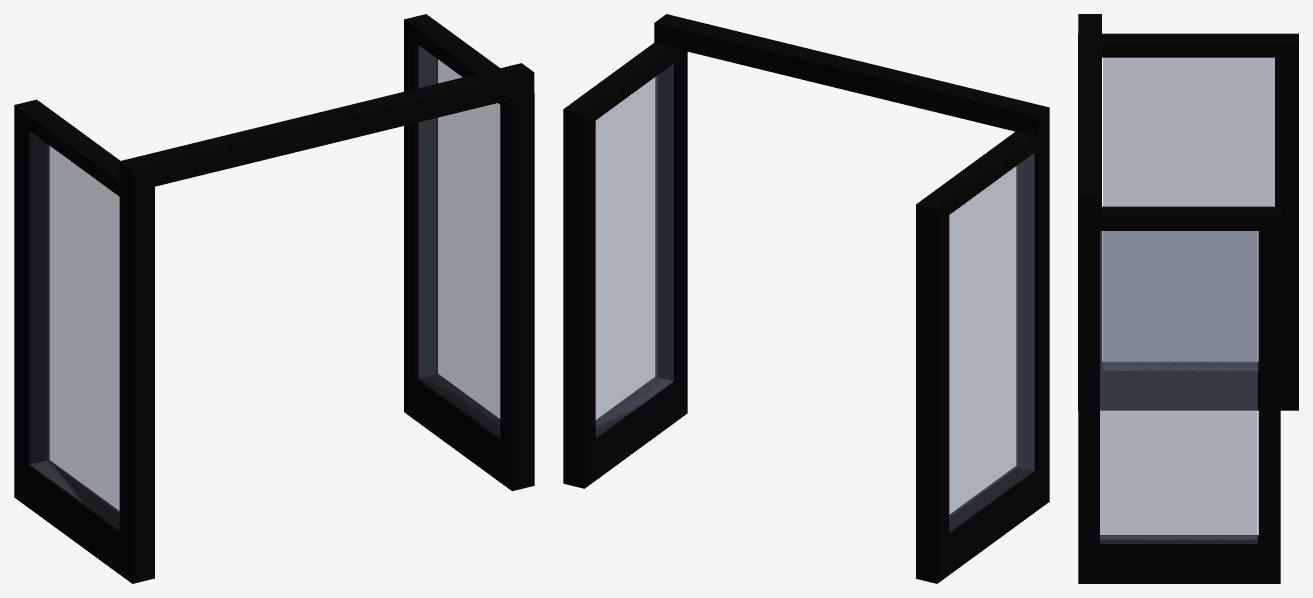
Rendered from Theater Door.fbx.
3 views of the same model, side by side, from view 1: azimuth 30°, elevation 25°; view 2: azimuth 150°, elevation 25°; view 3: azimuth 270°, elevation 25° (orthographic). The views are drawn at different scales.
Visible parts, largest first — view 1: Theater_Door, Theater_Door1, pCube1; view 2: Theater_Door, Theater_Door1, pCube1; view 3: Theater_Door1, Theater_Door, pCube1.
Part boxes in pixels (x1,y1,x2,y2): Theater_Door: [14, 99, 154, 583]; Theater_Door1: [404, 14, 534, 491]; pCube1: [119, 63, 534, 191]; Theater_Door: [916, 127, 1049, 583]; Theater_Door1: [563, 42, 687, 488]; pCube1: [654, 14, 1049, 135]; Theater_Door1: [1078, 206, 1280, 583]; Theater_Door: [1078, 33, 1298, 410]; pCube1: [1078, 14, 1101, 216].
Size of the model in its own units: 424 by 417 by 216.
